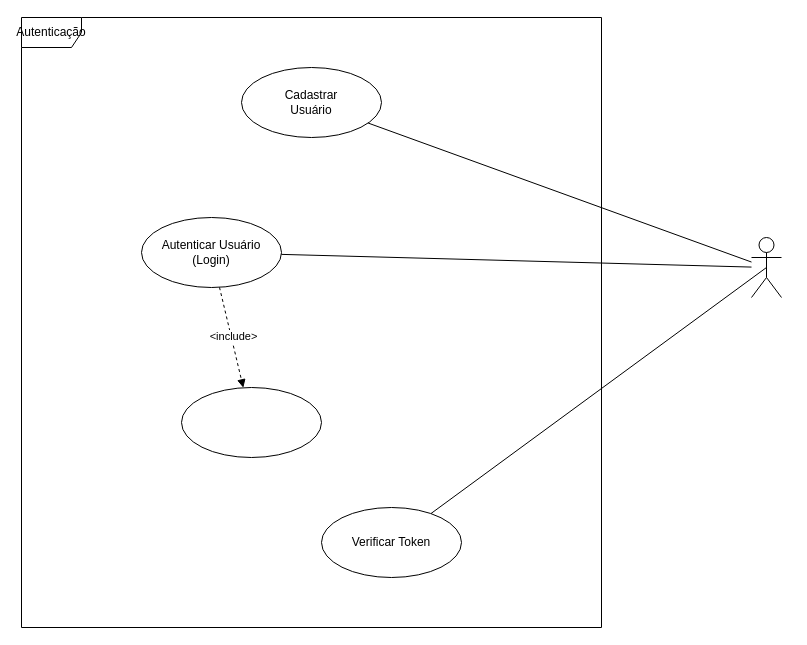
This 807x645 diagram has some shape labels left out. Here are the shapes that lost their labels. From the top down, the centre of each, then its label:
At (766,267): "Sistema Cliente".
At (251,422): "Gerar Token".
